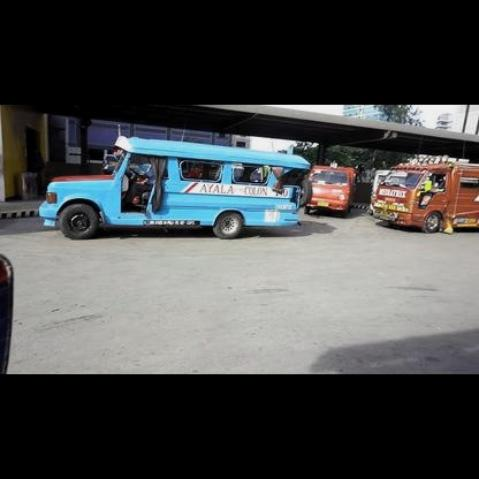jeepney: (35, 137, 313, 253), (370, 156, 479, 244)
